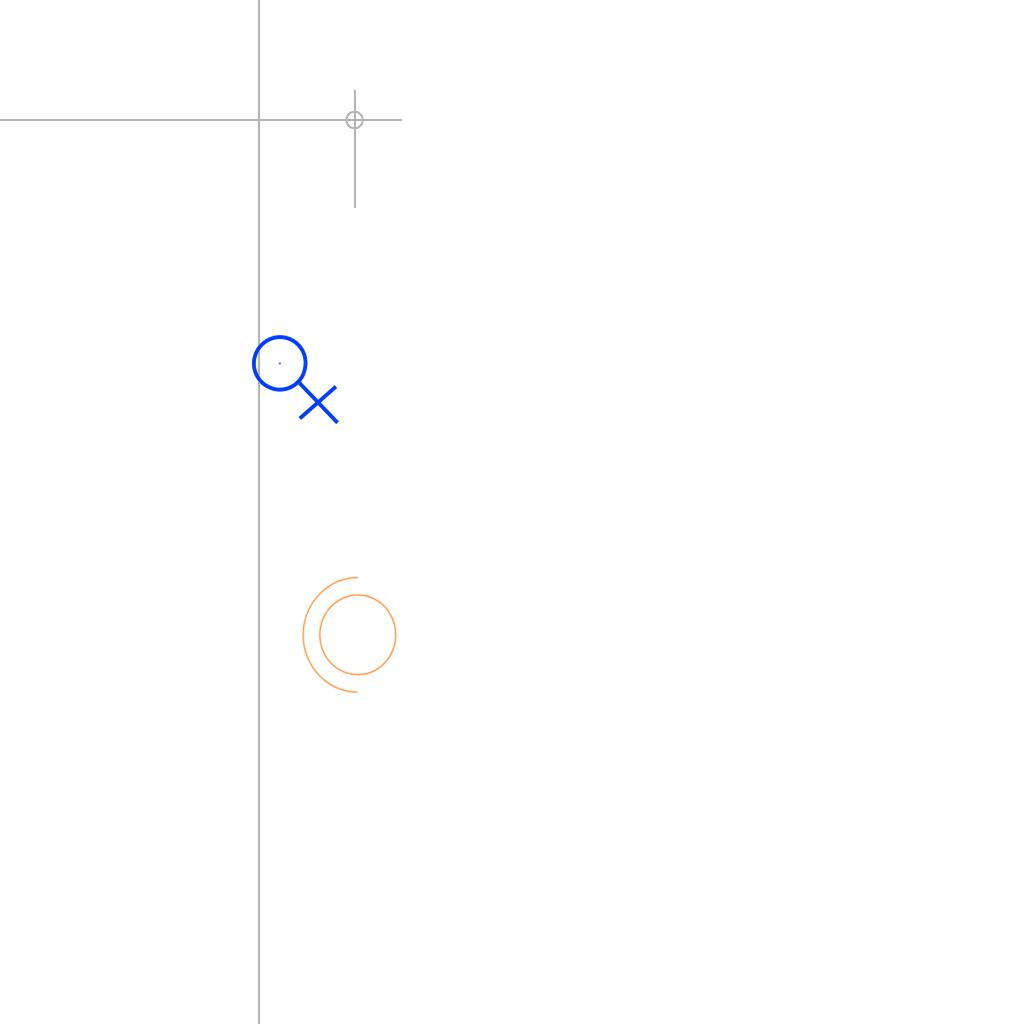Elektroanschluss_allgemein_230V_Geraeteanschlussdose_230V: (250, 326, 344, 425)
Scheinwerfer_fuer_Alarmbeleuchtung: (297, 572, 409, 704)
